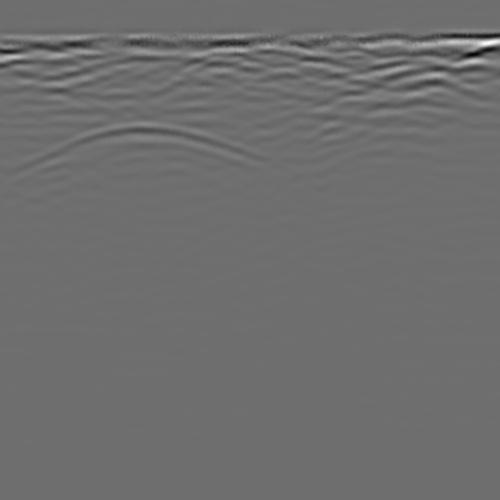hyperbola: (1, 112, 282, 212)
